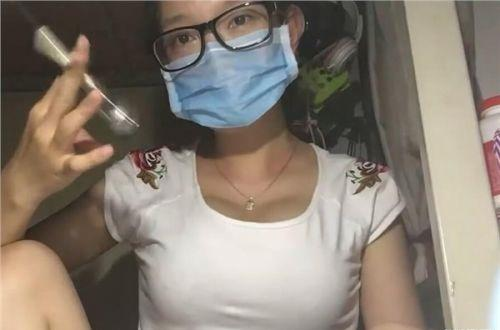OK: (159, 3, 280, 124)
